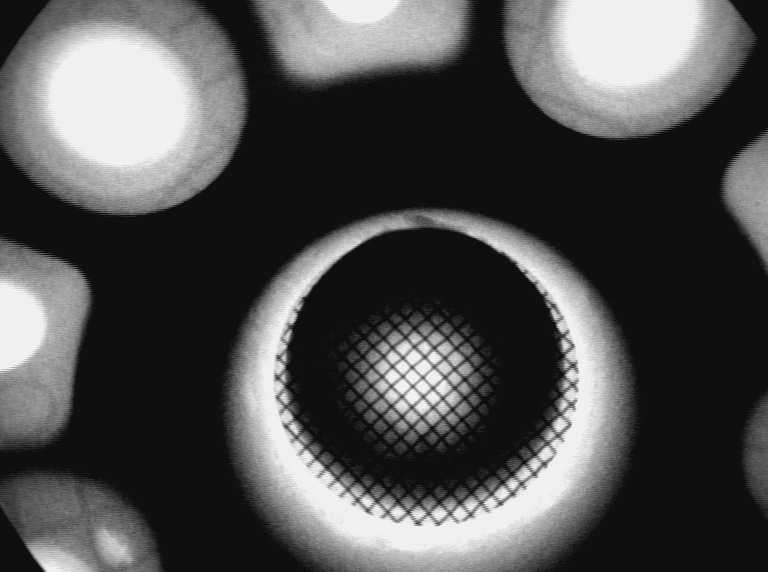defect: (91, 521, 139, 568)
